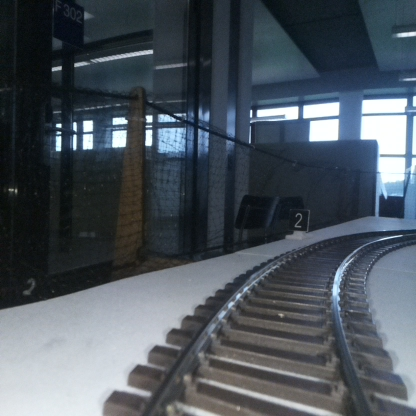black-stop-2: (289, 210, 308, 239)
